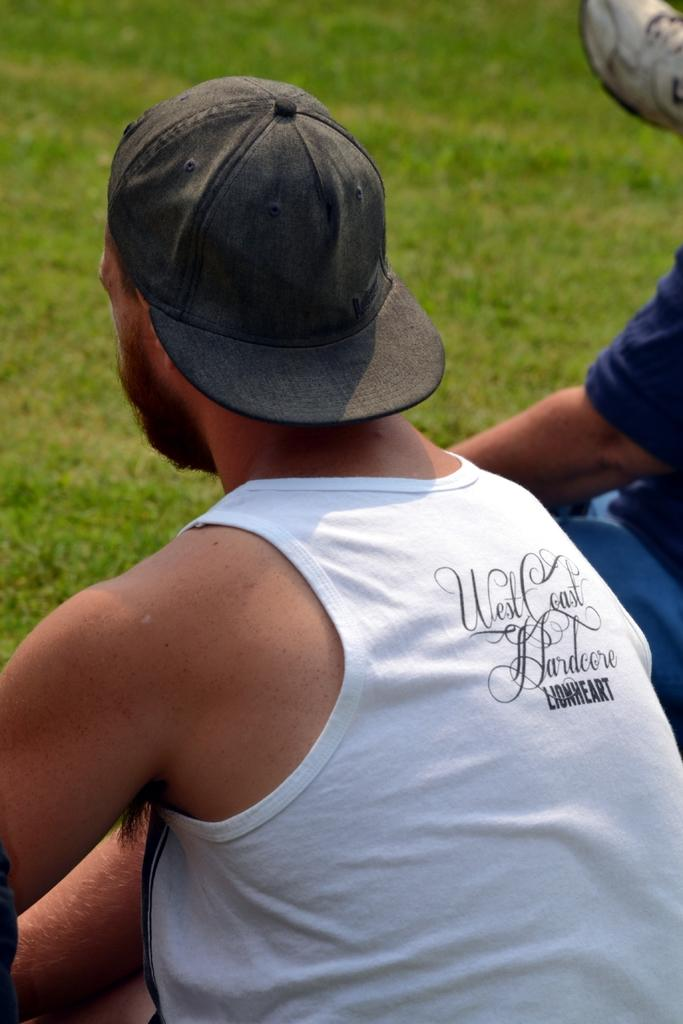Hat: (102, 74, 445, 420)
